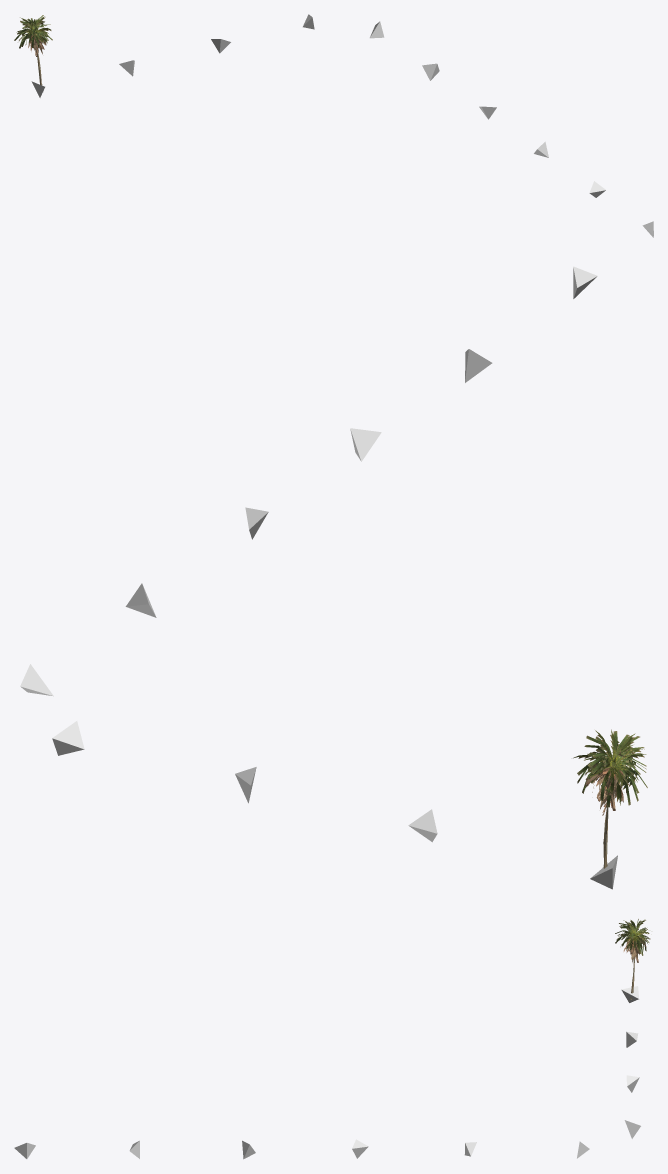
Rendered from palm-tree.glb.
3 renders of one model, top to bottom at view 1: azimuth 30°, elevation 25°; view 2: azimuth 150°, elevation 25°; view 3: azimuth 270°, elevation 25°, orthographic. The views are drawn at different scales.
Visible parts, largest first — view 1: SM_LSC_DD_PalmD_002_001_; view 2: SM_LSC_DD_PalmD_002_001_; view 3: SM_LSC_DD_PalmD_002_001_.
Boxes of the visible parts, x1=… form: SM_LSC_DD_PalmD_002_001_: x1=14, y1=15, x2=52, y2=85; SM_LSC_DD_PalmD_002_001_: x1=573, y1=729, x2=647, y2=868; SM_LSC_DD_PalmD_002_001_: x1=615, y1=919, x2=650, y2=999.
Bounding box in the file's own units: 5.6 × 1.26 × 8.98.
4 materials, 4 textured.
